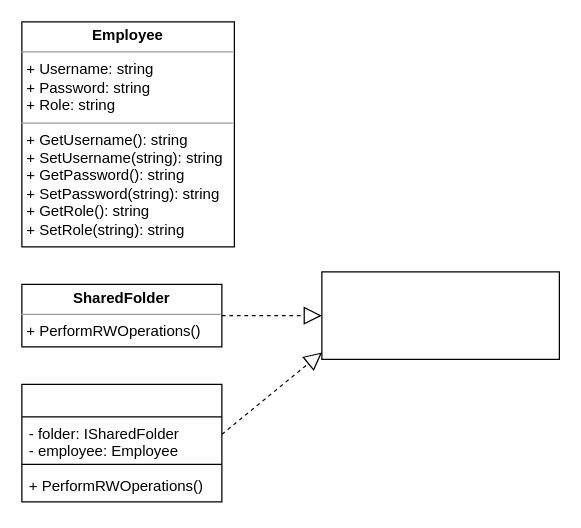
Image size: 581x528. Some labels were removed from this diagram. The box of each missing label's shape, as (x1, y1, x2, y2) in pixels:
<<Interface>> ISharedFolder - PerformRWOperations(): (321, 271, 559, 359)
Classname: (21, 383, 222, 502)
